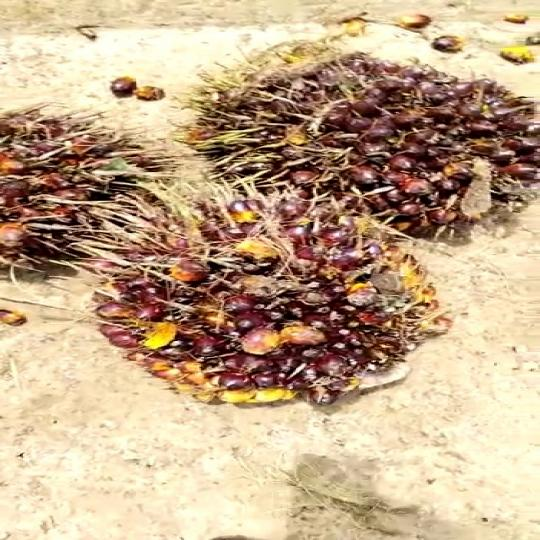masak: (67, 174, 467, 410), (185, 42, 540, 246), (0, 103, 224, 268)
